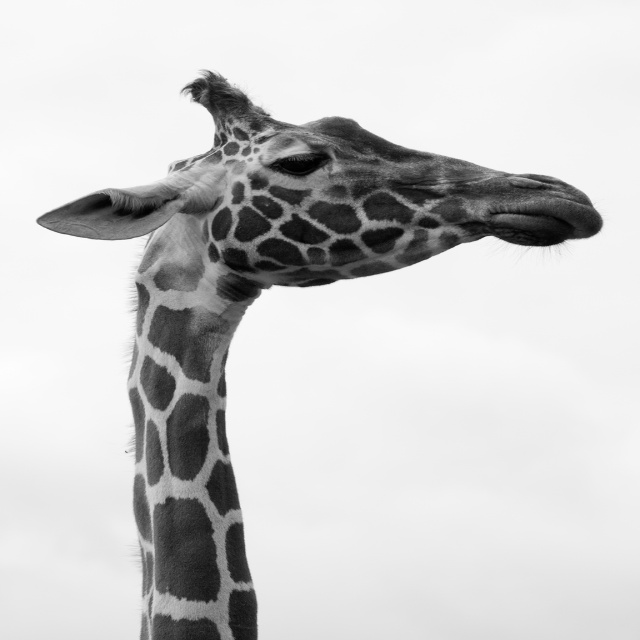Giraffe: (33, 82, 590, 623)
